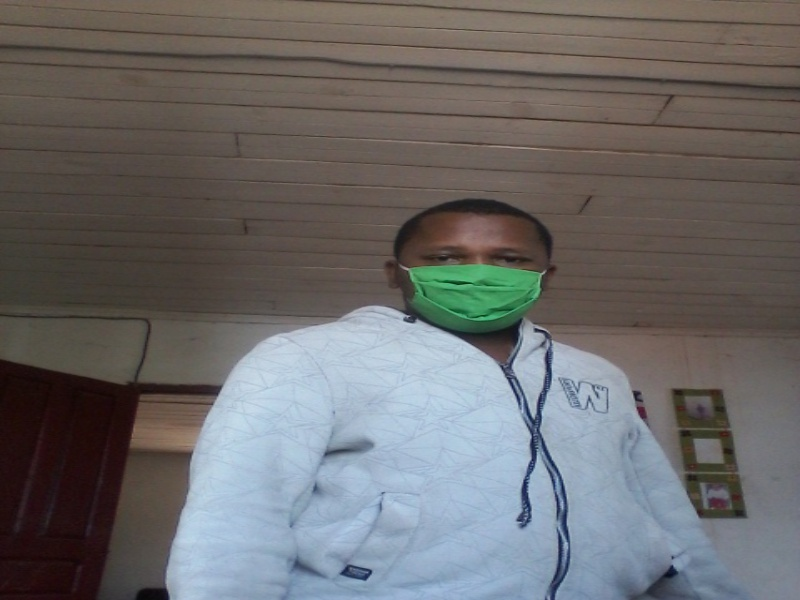ManaoArotava: (391, 185, 573, 366)
